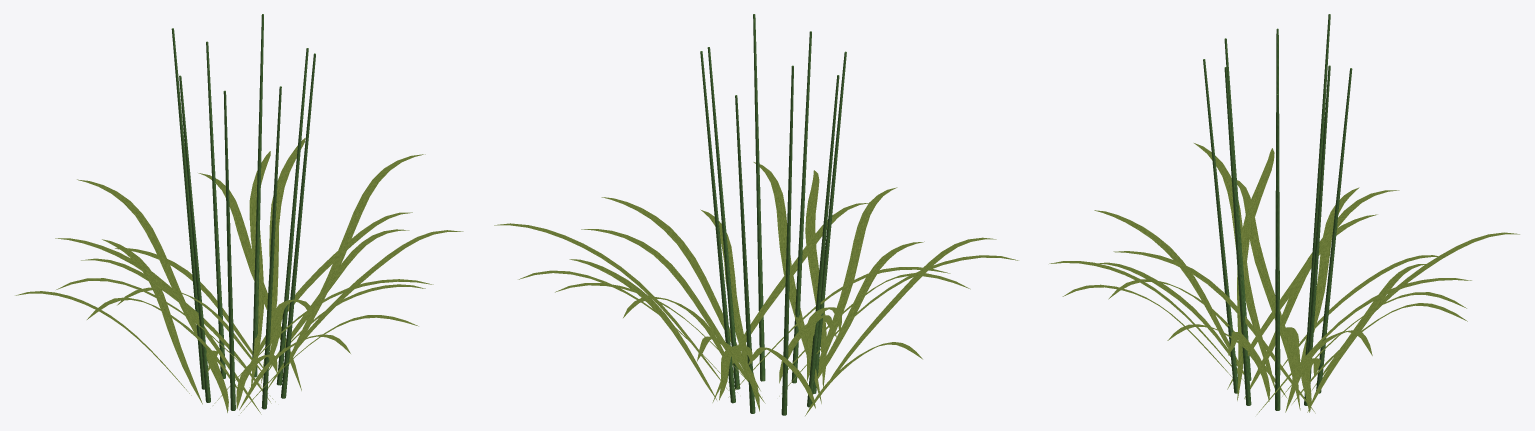
The model's file is PZ_Crop_Wheat_Mid.glb.
3 renders of one model, left to right at view 1: azimuth 30°, elevation 25°; view 2: azimuth 150°, elevation 25°; view 3: azimuth 270°, elevation 25°, orthographic.
Visible parts, largest first — view 1: PZ_Crop_Wheat_Mid_02_Slender_Grass_Blades, PZ_Crop_Wheat_Mid_01_Culms; view 2: PZ_Crop_Wheat_Mid_02_Slender_Grass_Blades, PZ_Crop_Wheat_Mid_01_Culms; view 3: PZ_Crop_Wheat_Mid_02_Slender_Grass_Blades, PZ_Crop_Wheat_Mid_01_Culms.
Boxes of the visible parts, x1,y1,x2,y2 form: PZ_Crop_Wheat_Mid_02_Slender_Grass_Blades: (15, 138, 463, 414); PZ_Crop_Wheat_Mid_01_Culms: (171, 14, 315, 410); PZ_Crop_Wheat_Mid_02_Slender_Grass_Blades: (494, 162, 1018, 415); PZ_Crop_Wheat_Mid_01_Culms: (700, 14, 846, 415); PZ_Crop_Wheat_Mid_02_Slender_Grass_Blades: (1049, 143, 1519, 414); PZ_Crop_Wheat_Mid_01_Culms: (1203, 14, 1352, 410).
Bounding box in the file's own units: 0.6069 × 0.4832 × 0.5788.
Materials: 2 (2 with a texture image).
